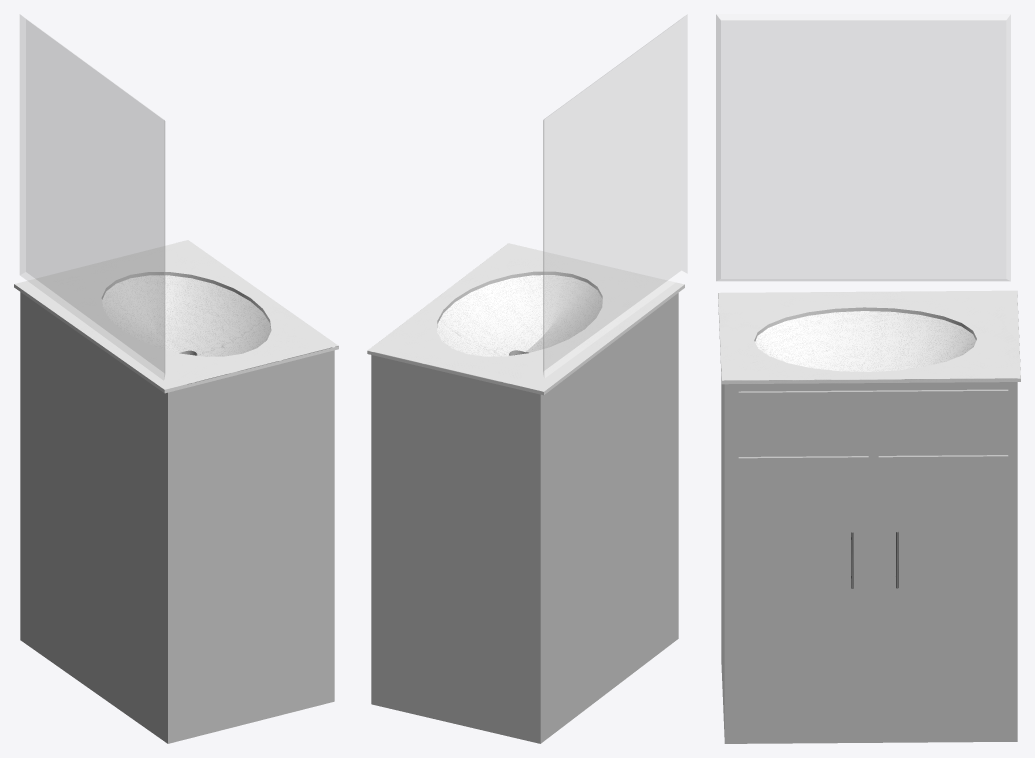
The model's file is bath_sink2.dae.
3 renders of one model, left to right at view 1: azimuth 30°, elevation 25°; view 2: azimuth 150°, elevation 25°; view 3: azimuth 270°, elevation 25°, orthographic. The views are drawn at different scales.
Visible parts, largest first — view 1: Sink (×4), SketchUp; view 2: Sink (×5), SketchUp; view 3: Sink (×9), SketchUp.
Part boxes in pixels (x1,y1,x2,y2): Sink (×4): (14,240,338,743); SketchUp: (20,14,165,380); Sink (×5): (367,243,684,743); SketchUp: (543,14,687,378); Sink (×9): (718,290,1020,743); SketchUp: (716,14,1010,280).
Bounding box in the file's own units: 17.93 × 24.93 × 57.96.
5 materials, 2 textured.
